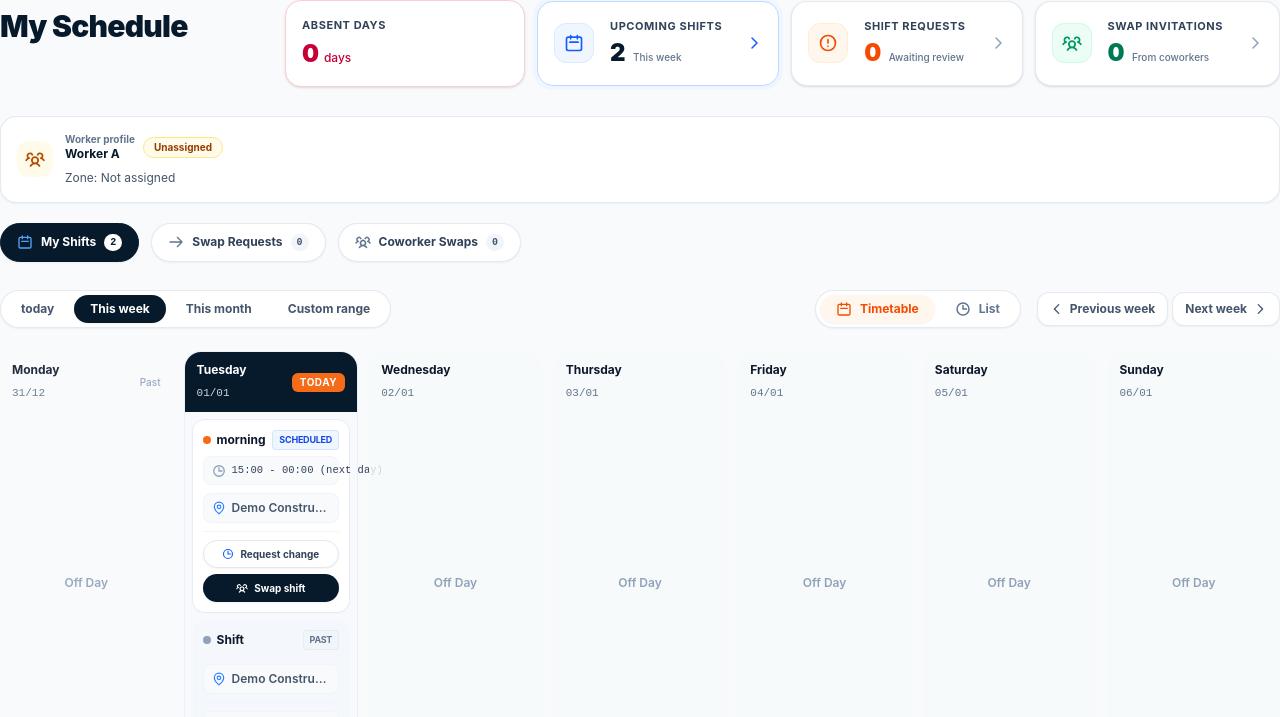
Test: displays unassigned status and disables swap submission when worker is not in a team
expect the text "Unassigned" is shown: met, box [143, 137, 223, 158]
Note: Open swap dialog
Click the button "Swap shift".
click(271, 588)  # box [203, 574, 339, 602]
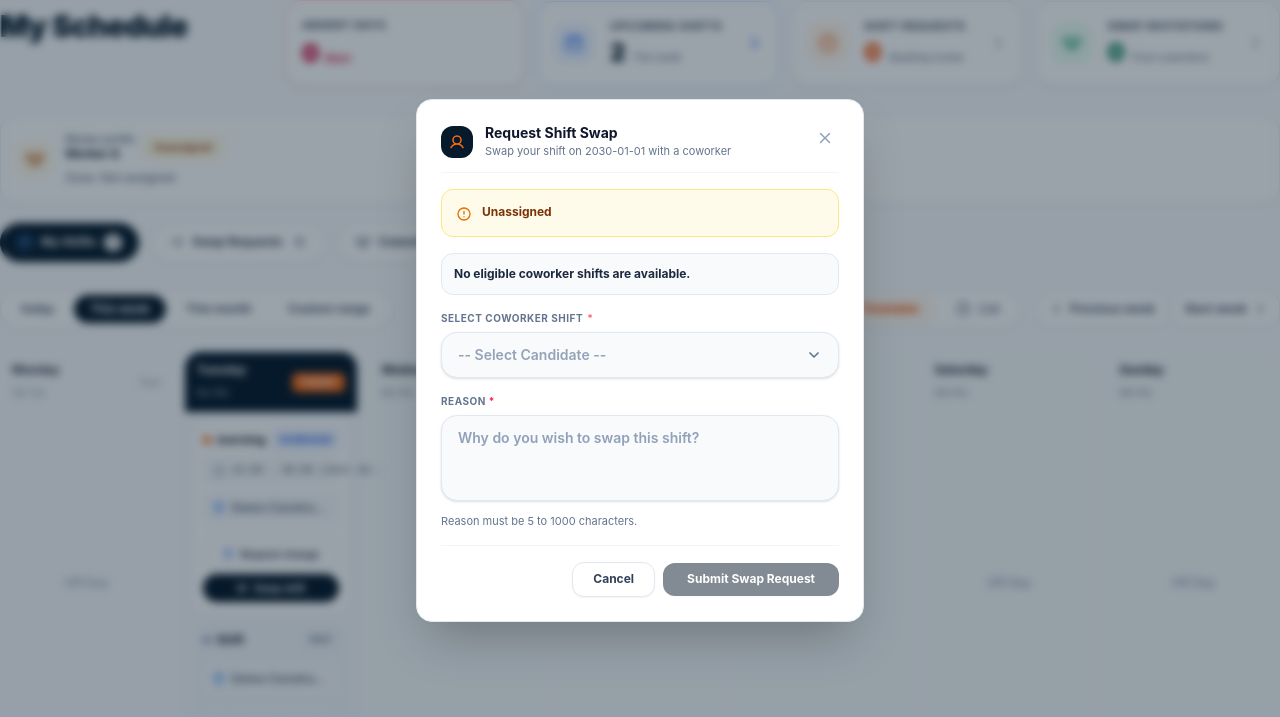
expect the text "Unassigned" next to "Worker profile" is shown: met, box [154, 141, 212, 153]
expect the button "Submit Swap Request" is disabled: met, box [663, 563, 839, 596]
